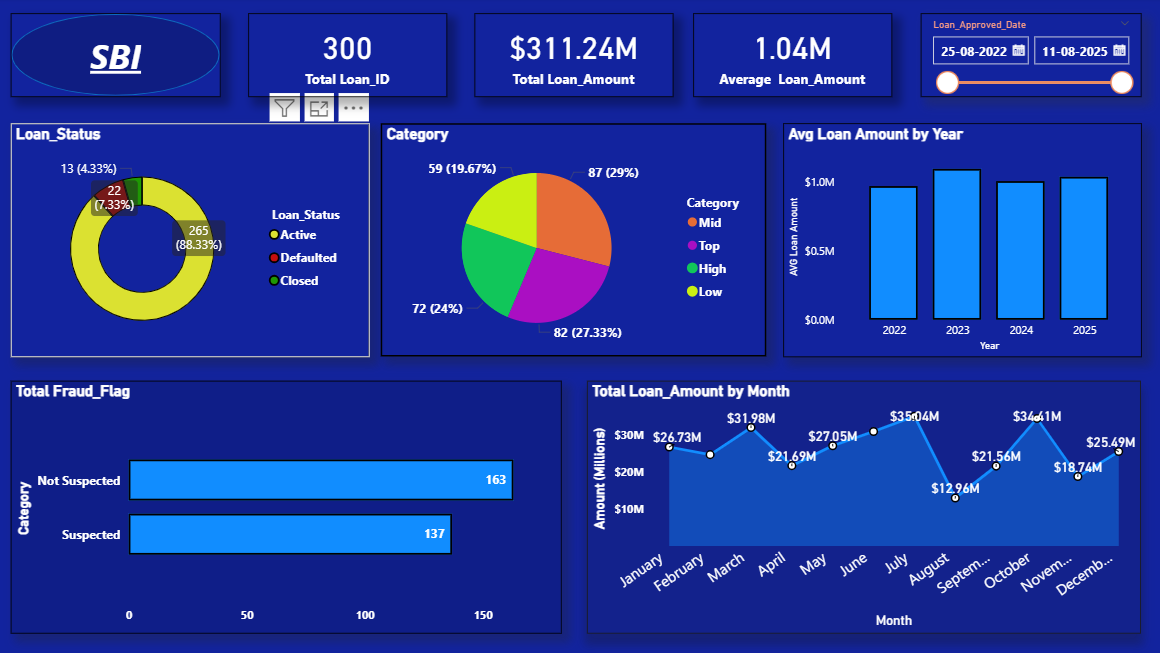

The page's visual inventory and layout, read from the dashboard file:
{"tool":"powerbi","page":{"name":"Page 1","canvas":[1280,720],"ordinal":0},"visuals":[{"type":"card","fields":{"Values":["Sum(Sheet1.Loan_Amount)"]},"box":[523.6,18.1,218.4,91.7],"z":0},{"type":"slicer","fields":{"Values":["Sheet1.Loan_Approved_Date"]},"box":[1013.4,18.1,242.5,91.7],"z":1000},{"type":"donutChart","title":"   Loan_Status ","fields":{"Y":["CountNonNull(Sheet1.Loan_ID)"],"Category":["Sheet1.Loan_Status"]},"box":[15.7,138.7,393.3,257],"z":2000},{"type":"lineChart","title":"Total Loan_Amount by Month","fields":{"Category":["Sheet1.Loan_Approved_Date.Variation.Date Hierarchy.Month"],"Y":["Sum(Sheet1.Loan_Amount)"]},"box":[647.9,421,608,277.5],"z":3000},{"type":"columnChart","title":"Avg Loan Amount by Year","fields":{"Category":["Sheet1.Loan_Approved_Date.Variation.Date Hierarchy.Year"],"Y":["Avg(Sheet1.Loan_Amount)"]},"box":[862.6,138.7,393.3,257],"z":4000},{"type":"barChart","title":"Total Fraud_Flag","fields":{"Category":["Sheet1.Fraud_Flag"],"Y":["CountNonNull(Sheet1.Fraud_Flag)"]},"box":[15.7,421,604.4,277.5],"z":5000},{"type":"card","fields":{"Values":["CountNonNull(Sheet1.Loan_ID)"]},"box":[276.3,18.1,218.4,91.7],"z":6000},{"type":"pieChart","title":" Category","fields":{"Category":["Sheet1 (2).Category"],"Y":["CountNonNull(Sheet1 (2).Category)"]},"box":[421,138.7,423.5,255.8],"z":7000},{"type":"shape","box":[15.7,18.1,230.4,91.7],"z":8000},{"type":"card","fields":{"Values":["Avg(Sheet1 (2).Loan_Amount)"]},"box":[764.9,18.1,218.4,91.7],"z":9000}]}

Visuals, with their boxes in screenshot pixels (x1, y1, x2, y2), scaled from the page's 1280x720 canvas onto the 1160x653 screenshot:
card - Sum(Sheet1.Loan_Amount): region(475, 16, 672, 100)
slicer - Sheet1.Loan_Approved_Date: region(918, 16, 1138, 100)
"   Loan_Status " donutChart: region(14, 126, 371, 359)
"Total Loan_Amount by Month" lineChart: region(587, 382, 1138, 634)
"Avg Loan Amount by Year" columnChart: region(782, 126, 1138, 359)
"Total Fraud_Flag" barChart: region(14, 382, 562, 634)
card - CountNonNull(Sheet1.Loan_ID): region(250, 16, 448, 100)
" Category" pieChart: region(382, 126, 765, 358)
shape: region(14, 16, 223, 100)
card - Avg(Sheet1 (2).Loan_Amount): region(693, 16, 891, 100)
